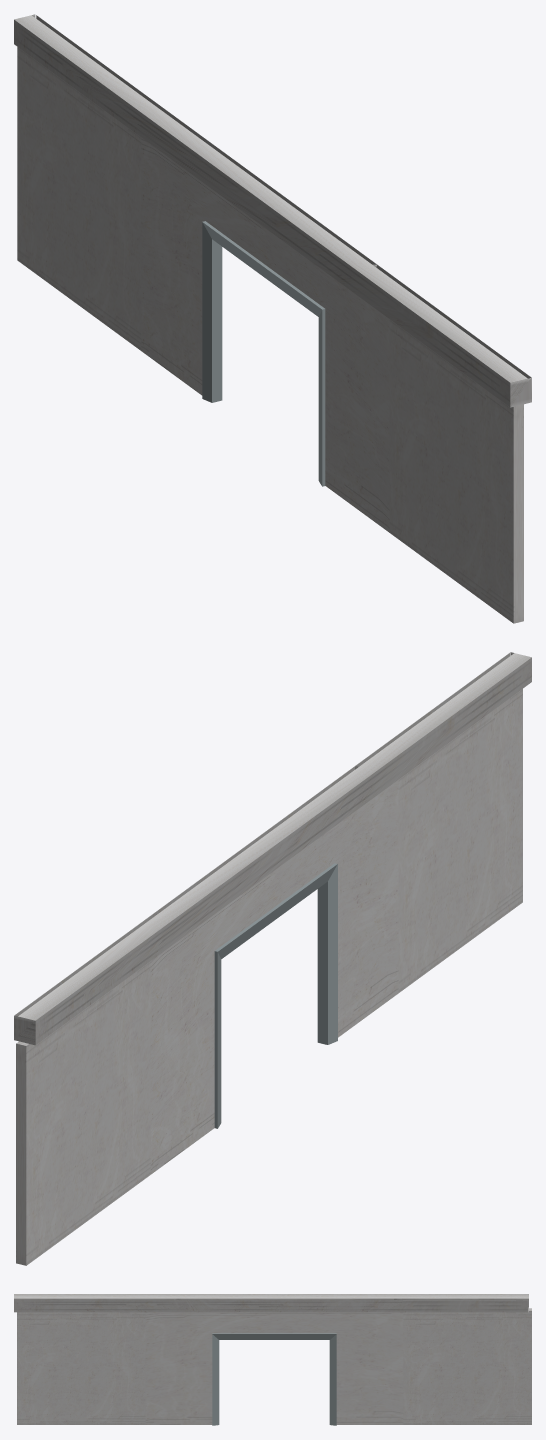
File: school ark 4.fbx
3 renders of one model, top to bottom at view 1: azimuth 30°, elevation 25°; view 2: azimuth 150°, elevation 25°; view 3: azimuth 270°, elevation 25°, orthographic. The views are drawn at different scales.
Visible parts, largest first — view 1: Cube.167, Cube.100, Cube.101, Cube.166, Cube.102, classroom walls.109, classroom walls.110, Cube.165, Cube.164, classroom walls.088, Cube.163, Cube.162 (+2 smaller); view 2: Cube.101, Cube.100, Cube.166, Cube.167, Cube.102, classroom walls.109, Cube.165, classroom walls.110, Cube.164, classroom walls.088, Cube.163, Cube.103 (+2 smaller); view 3: Cube.100, Cube.101, Cube.166, Cube.167, Cube.102, Cube.164, Cube.165, classroom walls.109, classroom walls.110, Cube.163, classroom walls.088, Cube.093 (+2 smaller).
Boxes of the visible parts, x1,y1,x2,y2 form: Cube.167: [393, 322, 523, 623]; Cube.100: [389, 319, 513, 623]; Cube.101: [17, 47, 140, 350]; Cube.166: [21, 49, 141, 350]; Cube.102: [141, 137, 202, 395]; classroom walls.109: [141, 103, 377, 293]; classroom walls.110: [349, 264, 531, 407]; Cube.165: [325, 313, 389, 532]; Cube.164: [149, 143, 381, 316]; classroom walls.088: [14, 14, 157, 141]; Cube.163: [325, 335, 389, 532]; Cube.162: [202, 222, 222, 402]; Cube.101: [16, 1043, 149, 1265]; Cube.100: [398, 777, 522, 992]; Cube.166: [16, 961, 150, 1174]; Cube.167: [402, 689, 522, 901]; Cube.102: [150, 955, 214, 1174]; classroom walls.109: [135, 765, 377, 946]; Cube.165: [338, 780, 398, 992]; classroom walls.110: [356, 652, 531, 794]; Cube.164: [158, 785, 390, 958]; classroom walls.088: [14, 927, 169, 1045]; Cube.163: [338, 895, 398, 1037]; Cube.103: [317, 864, 337, 1044]; Cube.100: [17, 1312, 145, 1424]; Cube.101: [404, 1311, 531, 1424]; Cube.166: [403, 1308, 531, 1424]; Cube.167: [17, 1312, 143, 1424]; Cube.102: [336, 1312, 403, 1424]; Cube.164: [149, 1312, 399, 1336]; Cube.165: [145, 1312, 212, 1424]; classroom walls.109: [174, 1294, 402, 1312]; classroom walls.110: [14, 1294, 180, 1312]; Cube.163: [146, 1347, 212, 1424]; classroom walls.088: [394, 1294, 528, 1312]; Cube.093: [212, 1333, 336, 1339].
Bounding box in the file's own units: 0.495 × 5.38 × 19.9.
Materials: 2 (1 with a texture image).
